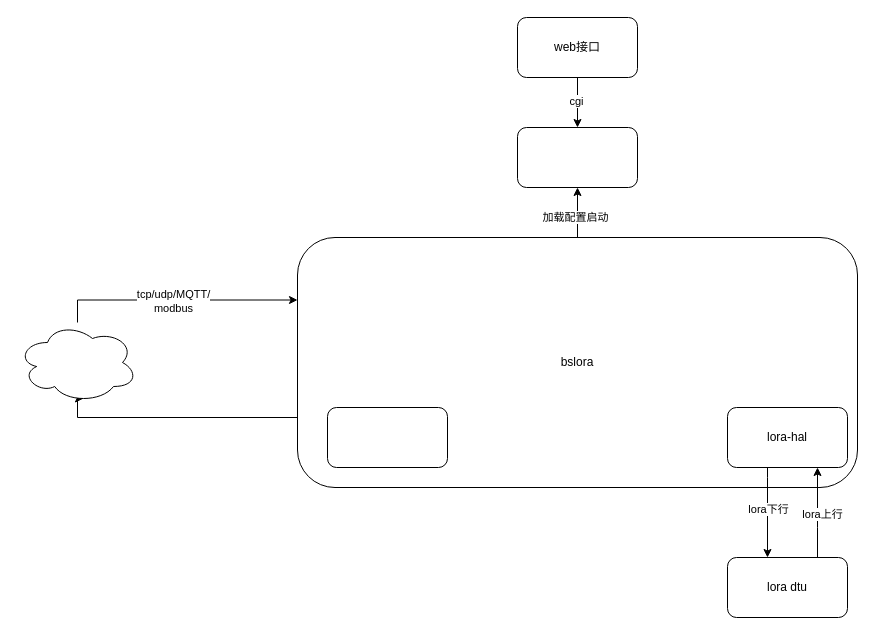
Image size: 875x635. Some labels were removed from this diagram. The shapes that lost their labels are listed below. From the top down, each one's box as (x1, y1, x2, y2) in pixels, then its label:
(516, 126, 638, 188): bslora-config.json
(16, 322, 138, 402): 边缘网关/服务器
